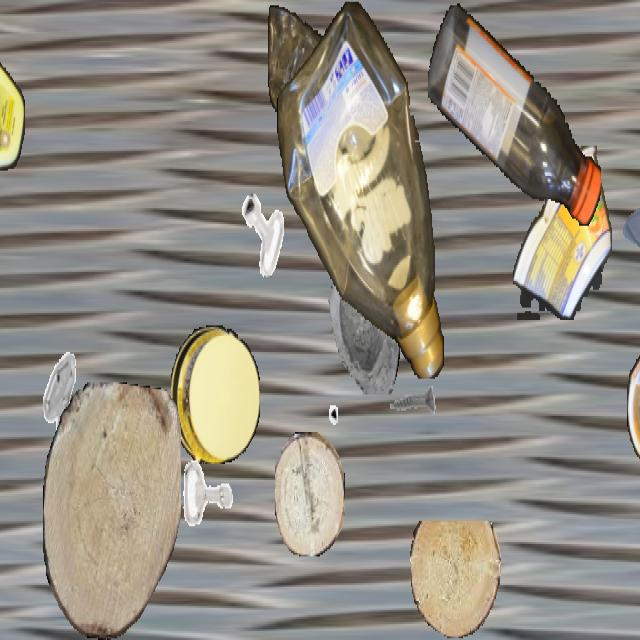glass: (313, 234, 403, 394), (623, 166, 640, 286)
metal: (177, 439, 239, 549), (29, 349, 89, 455), (385, 363, 437, 455), (288, 353, 338, 442), (239, 190, 287, 276)
plastic: (277, 1, 445, 378), (428, 2, 600, 229), (513, 146, 611, 320), (171, 325, 259, 464), (268, 2, 342, 126), (0, 32, 24, 213), (627, 342, 640, 469)
wood: (43, 382, 181, 638), (410, 521, 500, 638), (275, 432, 345, 556)
